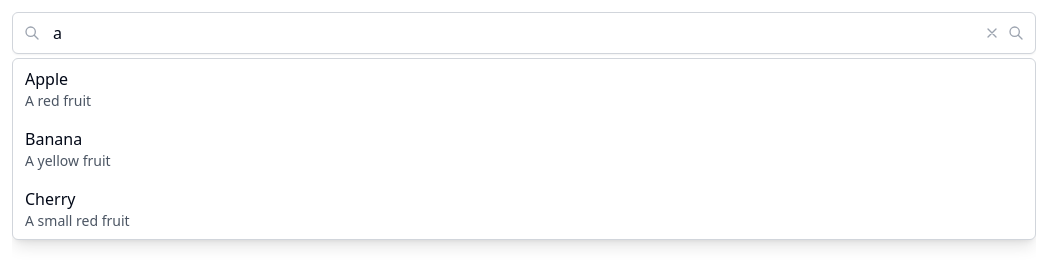
Test: SearchInput › closes suggestions on Escape
Focus the field showing "a": (524, 33) [12, 12, 1036, 54]
Expected: the text "Apple" is shown, [25, 68, 68, 90]
Press Escape in the field showing "a", box [12, 12, 1036, 54]
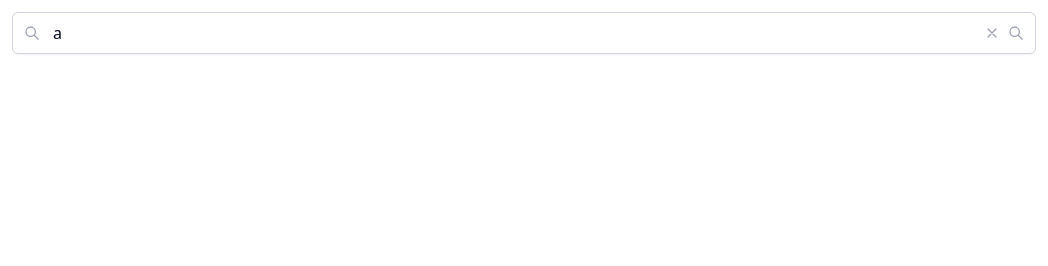
Expected: the text "Apple" is gone
